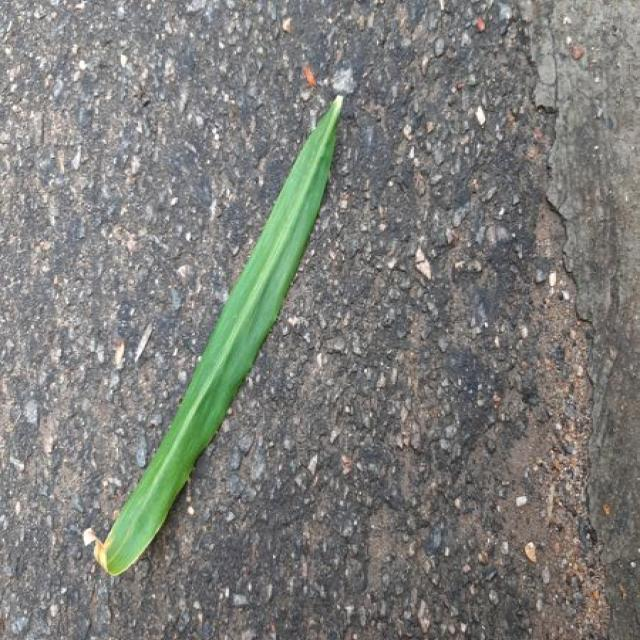ginger: (83, 96, 341, 576)
